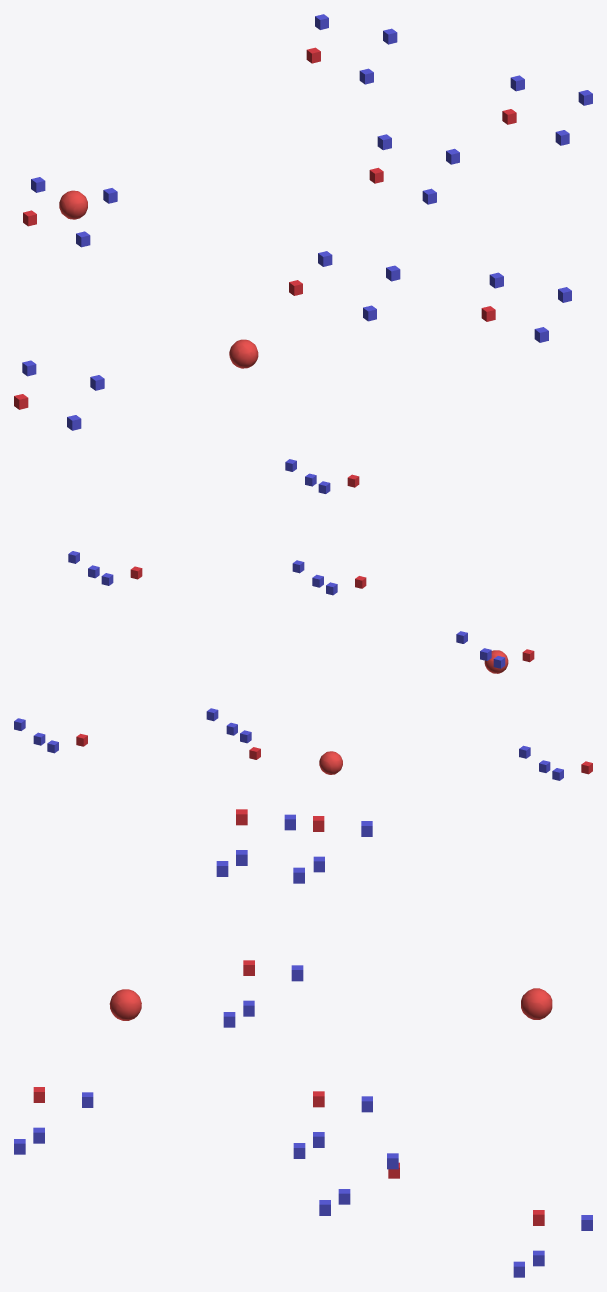
Rendered from demo9.fbx.
3 views of the same model, one above another, from view 1: azimuth 30°, elevation 25°; view 2: azimuth 150°, elevation 25°; view 3: azimuth 270°, elevation 25° (orthographic). The views are drawn at different scales.
Visible parts, largest first — view 1: 融球; view 2: 融球; view 3: 融球.
Boxes of the visible parts, x1,y1,x2,y2 form: 融球: (59, 190, 258, 368); 融球: (319, 650, 508, 774); 融球: (109, 988, 552, 1020).
Bounding box in the file's own units: 5478 × 2840 × 4114.
